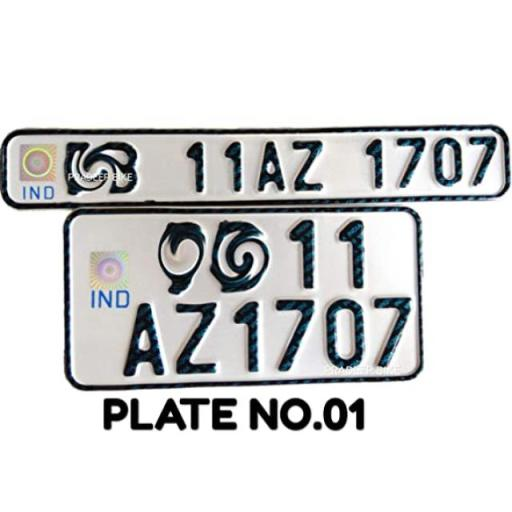number plate: (56, 212, 430, 391), (6, 125, 512, 205)
